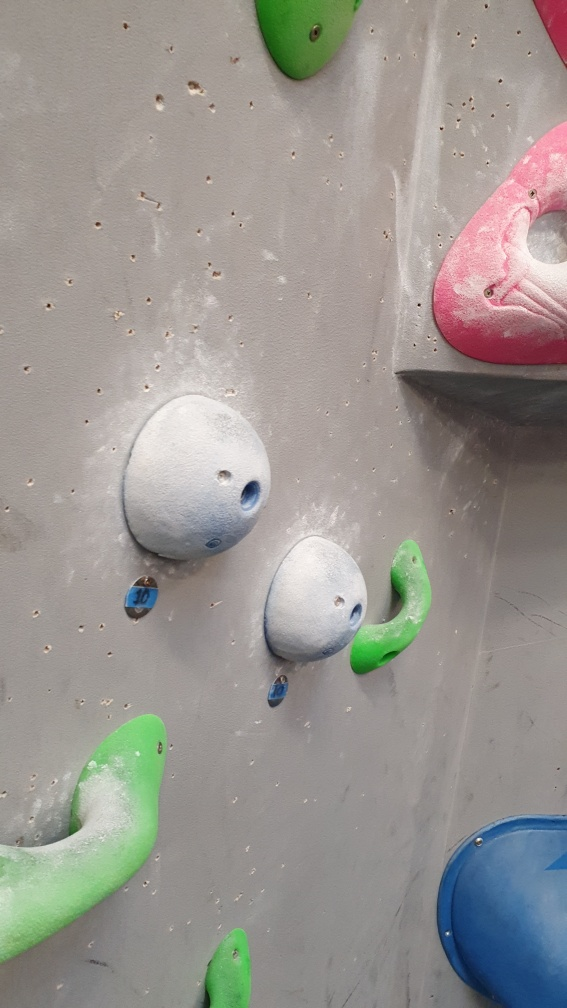Hand Start: (123, 572, 159, 625), (265, 673, 290, 710)
Pocket: (420, 122, 567, 368)
Sloper: (116, 381, 276, 566), (262, 534, 371, 659)
